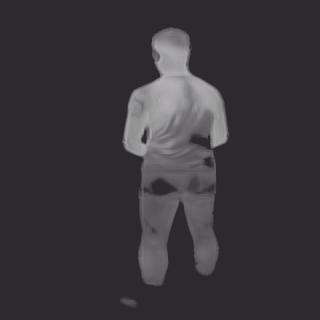Gun: (189, 132, 217, 168)
